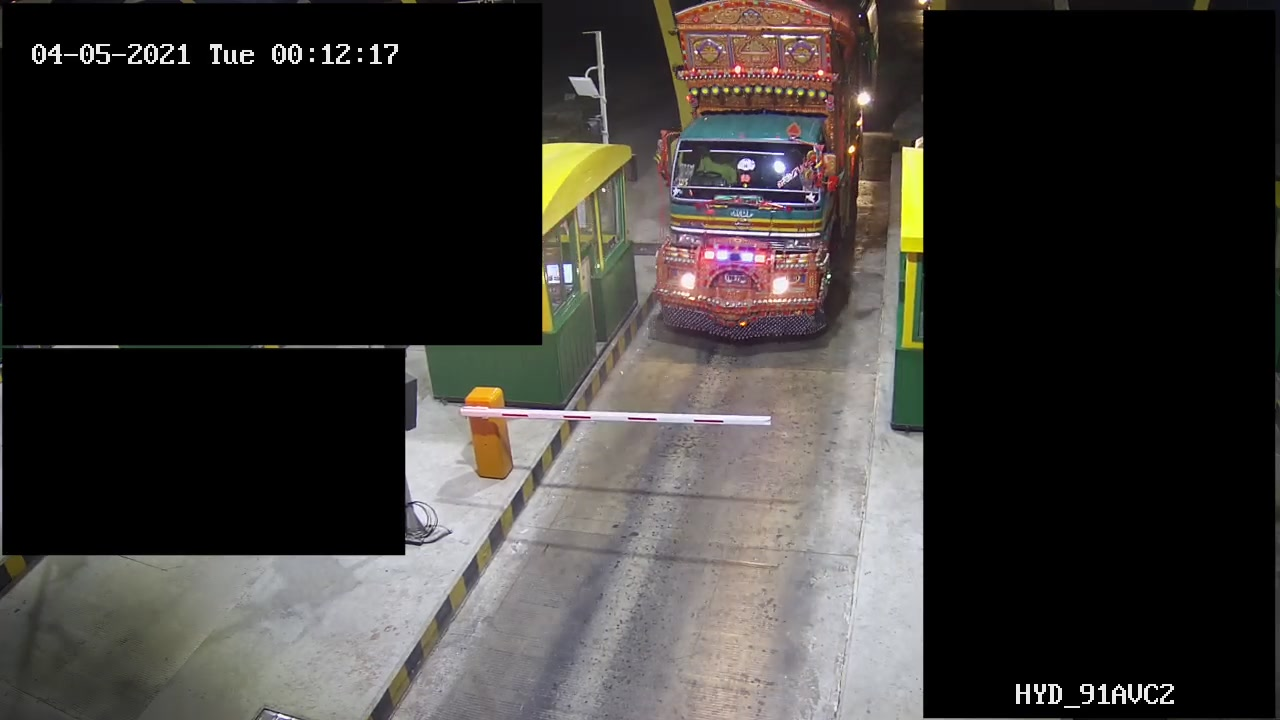F5: (648, 1, 875, 347)
